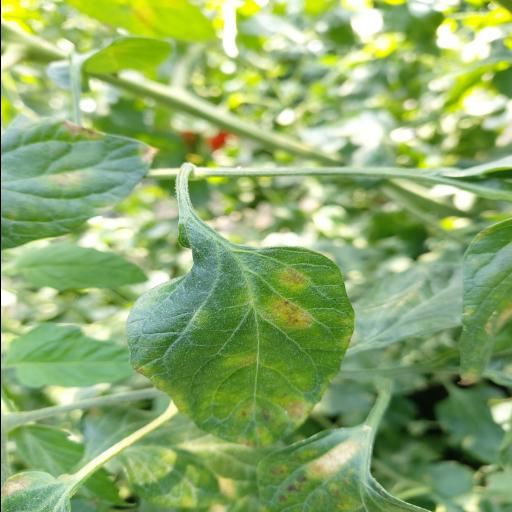Leaf Mold: (125, 244, 355, 448), (0, 109, 160, 249)
